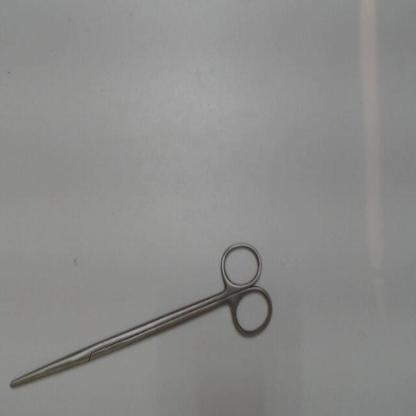9 Metzenbaum Scissors: (8, 236, 281, 392)
